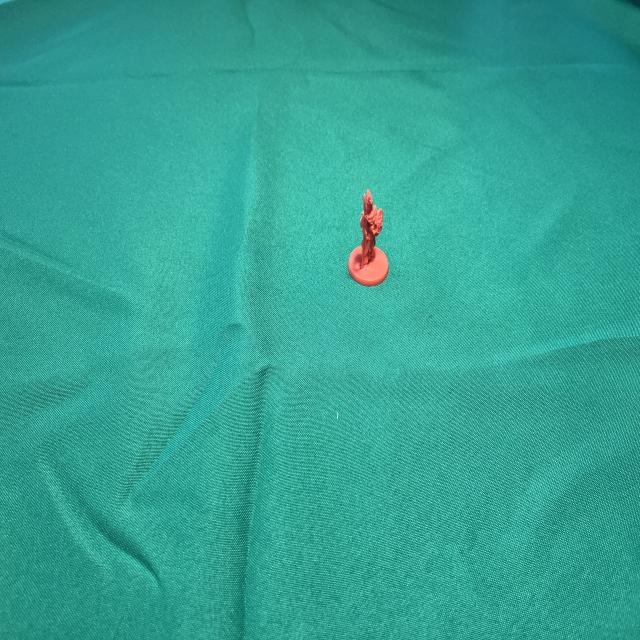amon_follower: (348, 190, 389, 287)
